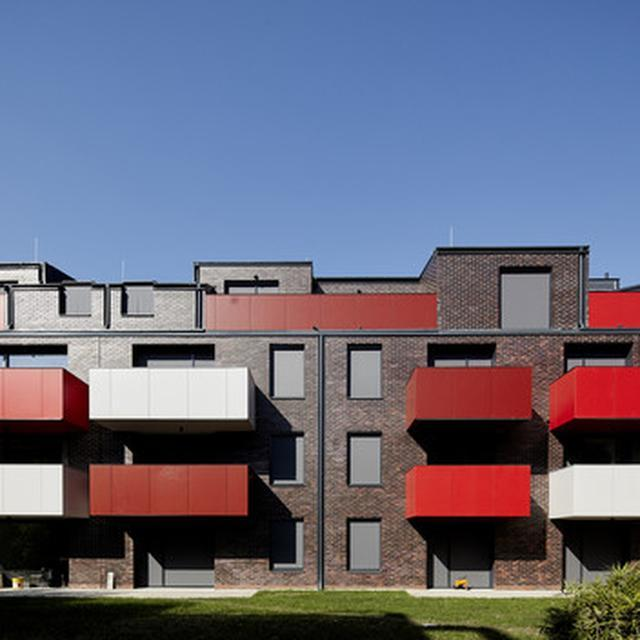building: (0, 243, 640, 592)
